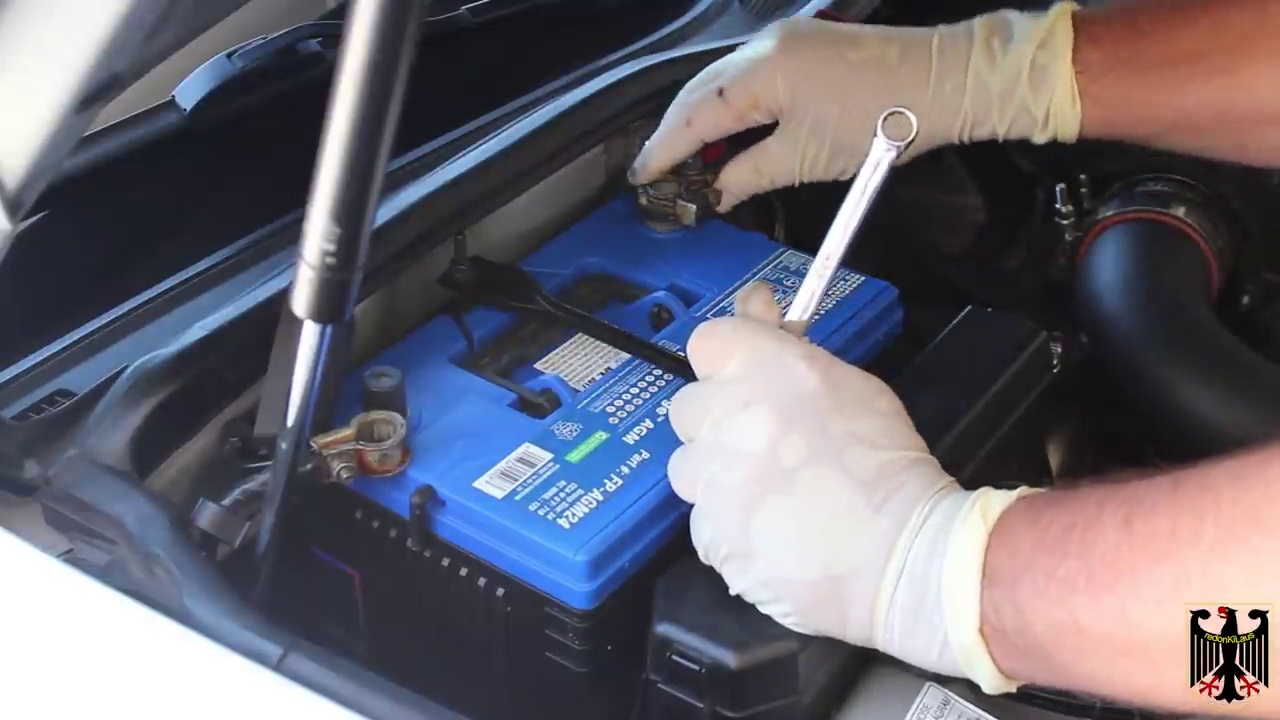battery: (287, 206, 904, 565)
